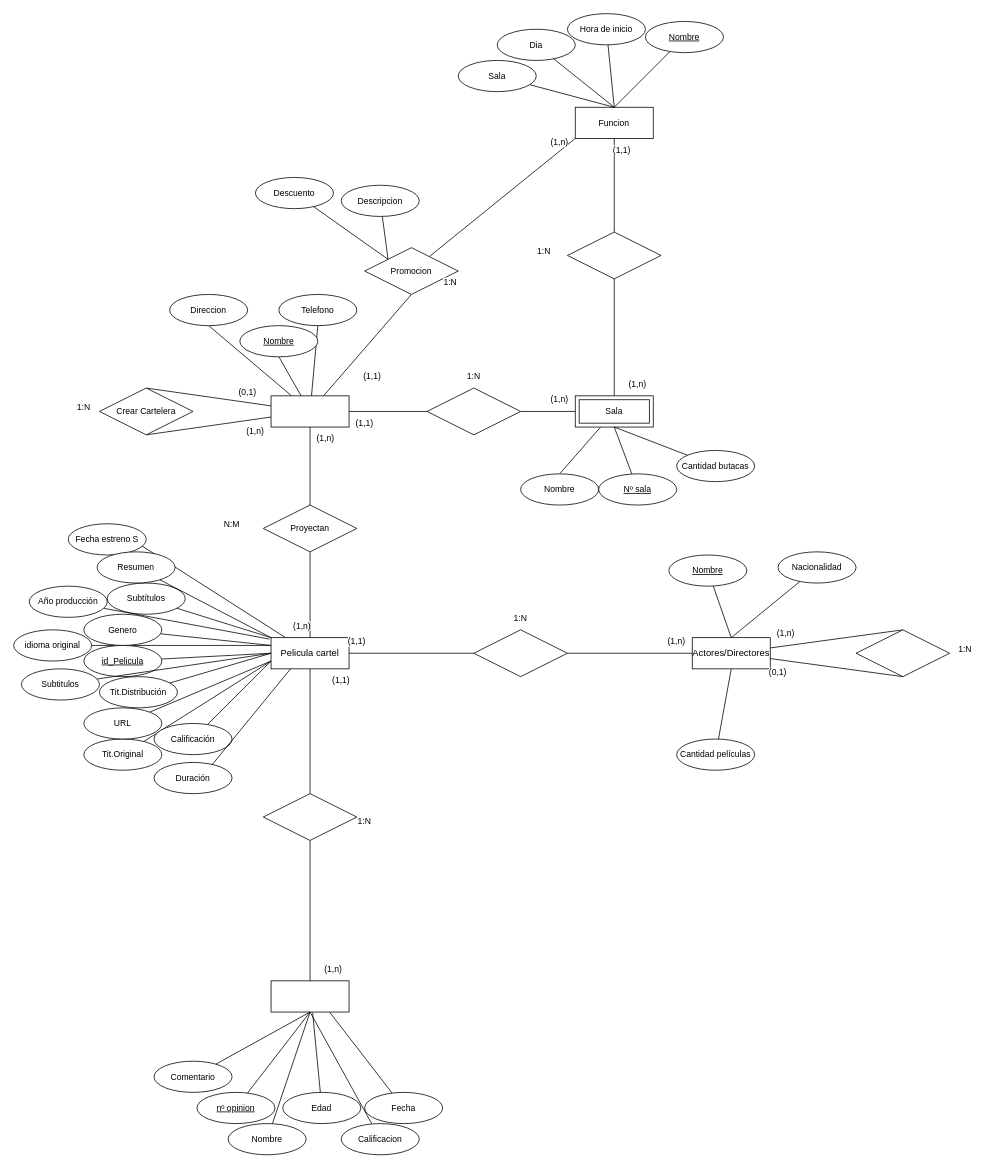
The diagram is 1002 pixels wide and 1168 high, and some of its shapes have lost their labels. Here are the shapes that lost their labels. From the top down, the centre of each, then its label:
At pixel 614 255: "Realizar".
At pixel 309 411: "Cines".
At pixel 473 411: "Formar".
At pixel 520 653: "Trabajar".
At pixel 902 653: "Directores".
At pixel 309 816: "Recoger".
At pixel 309 996: "Opinion usuario".
